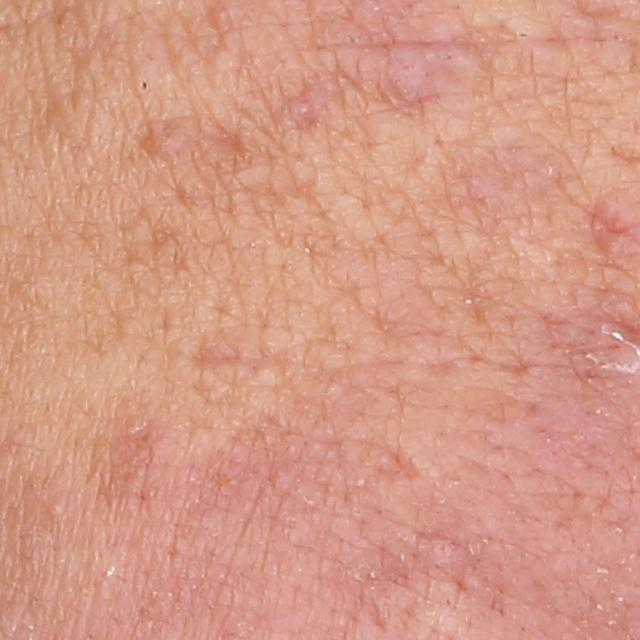atrophic_scar: (585, 194, 637, 261), (360, 434, 426, 486)
comedo: (134, 72, 153, 95), (46, 502, 67, 519)
